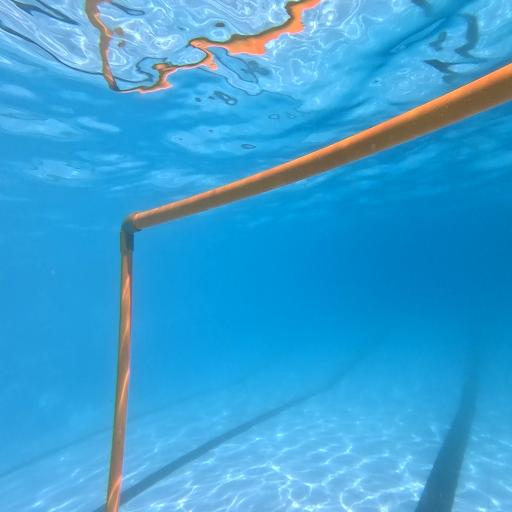gate: (106, 59, 512, 512)
